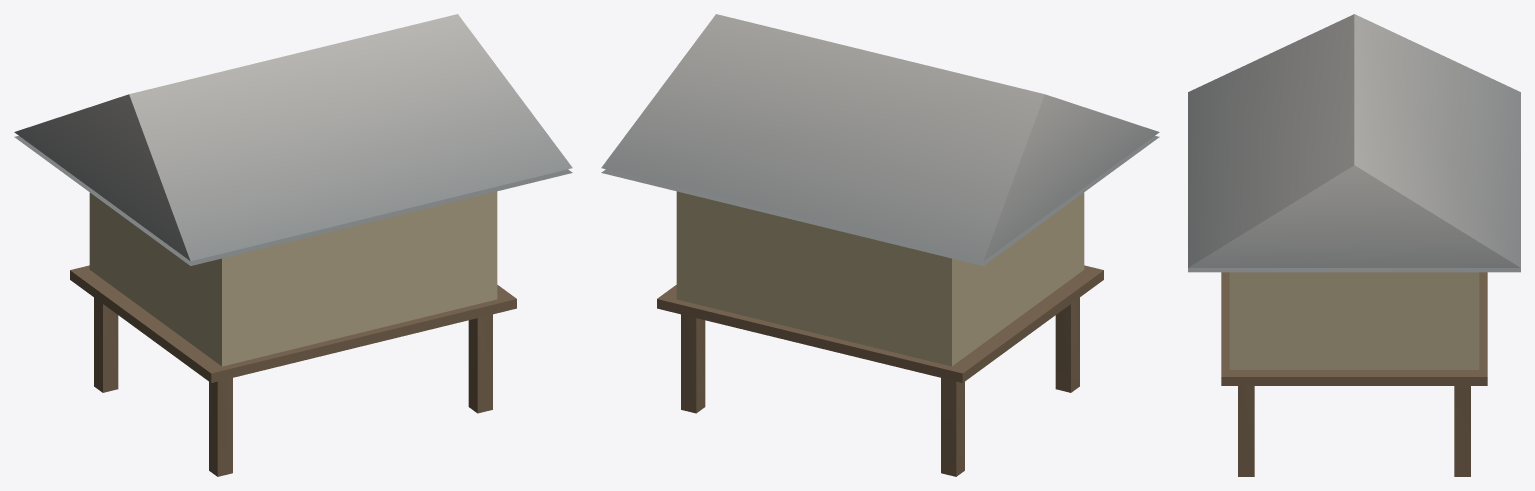
The model's file is farm_hut_lod1.glb.
3 renders of one model, left to right at view 1: azimuth 30°, elevation 25°; view 2: azimuth 150°, elevation 25°; view 3: azimuth 270°, elevation 25°, orthographic. The views are drawn at different scales.
Visible parts, largest first — view 1: farm_hut_lod1; view 2: farm_hut_lod1; view 3: farm_hut_lod1.
Part boxes in pixels (box(x1,y1,x2,y2)): farm_hut_lod1: box(14, 14, 572, 476); farm_hut_lod1: box(601, 14, 1159, 476); farm_hut_lod1: box(1188, 14, 1520, 476).
Bounding box in the file's own units: 5 × 4.3 × 4.
